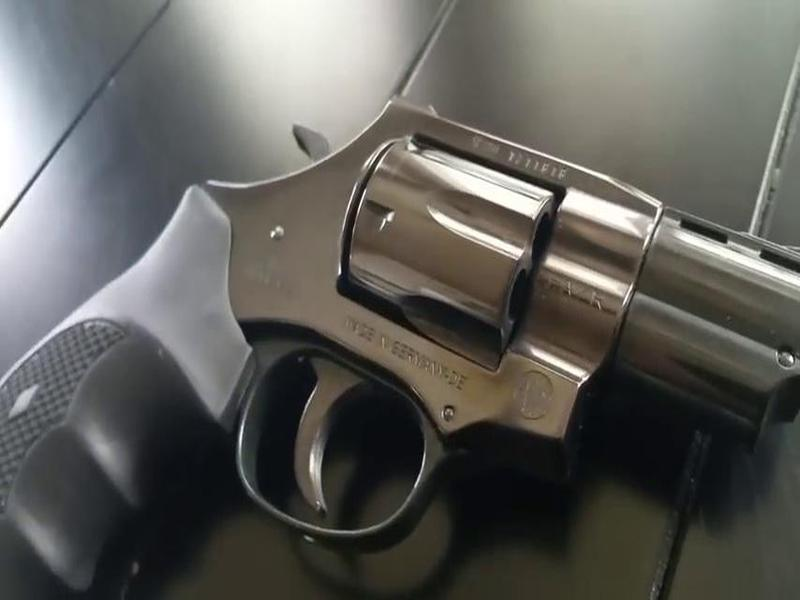Revolver: (108, 67, 799, 571)
